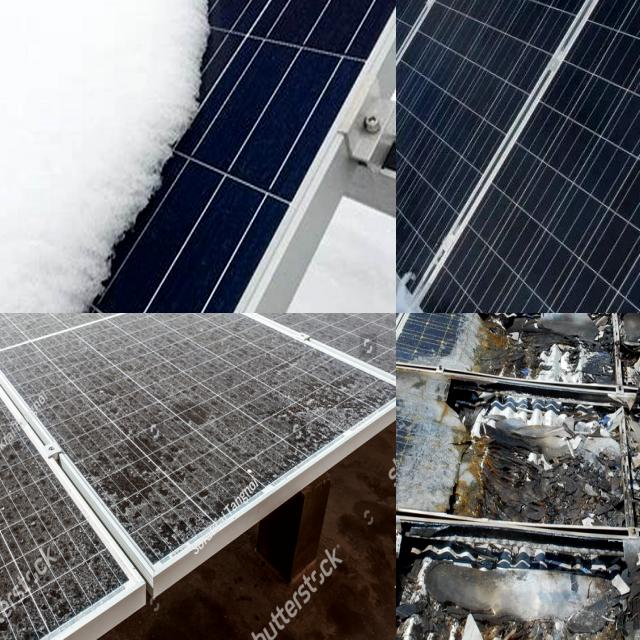dust: (157, 313, 244, 432), (0, 402, 43, 640), (128, 434, 237, 522), (52, 334, 139, 440), (0, 477, 55, 629), (0, 389, 32, 640), (256, 356, 322, 456), (267, 313, 396, 346), (6, 313, 102, 354), (166, 313, 266, 349), (0, 313, 37, 401), (318, 313, 396, 337)
panel: (160, 28, 240, 160), (117, 98, 188, 206), (396, 0, 463, 114), (105, 0, 211, 55), (96, 174, 174, 248), (396, 179, 438, 313), (78, 228, 134, 312), (396, 92, 444, 181), (169, 0, 224, 62), (6, 0, 86, 42), (71, 261, 132, 313), (0, 0, 42, 23), (0, 0, 26, 34)
shadow: (424, 366, 640, 536), (396, 507, 640, 640), (452, 313, 640, 398), (477, 313, 640, 344), (516, 313, 615, 358), (496, 313, 640, 334)
